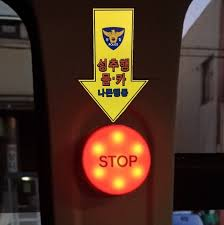bell: (78, 122, 155, 198)
